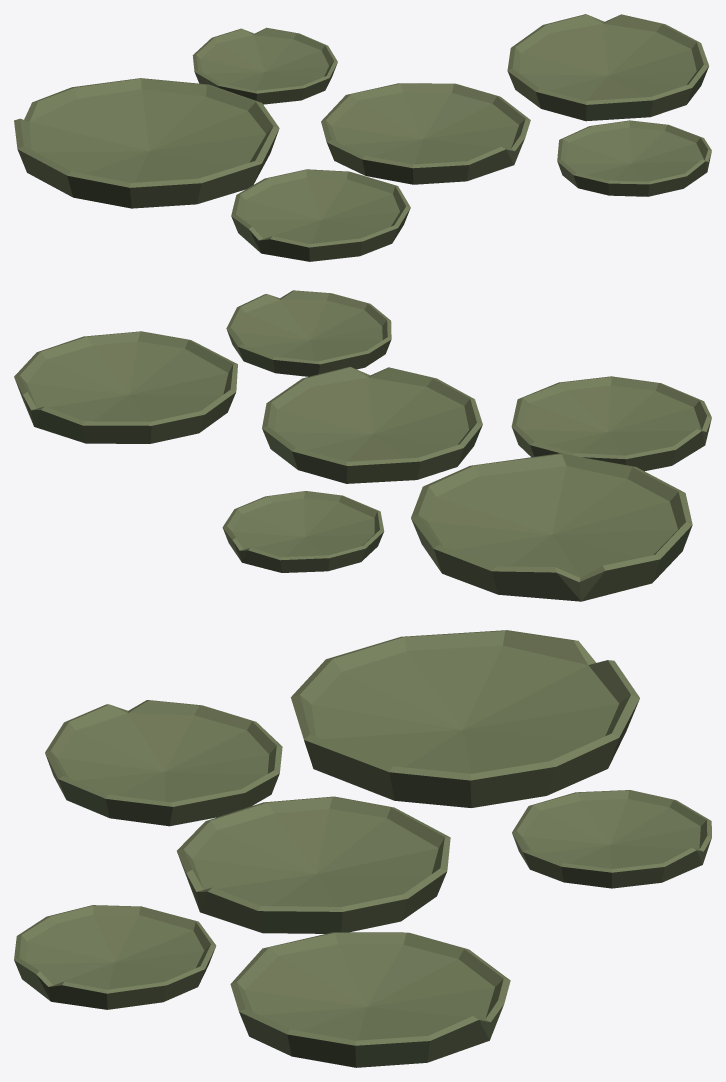
The model's file is synty-plant-lillypad-large-01.gltf.
3 renders of one model, top to bottom at view 1: azimuth 30°, elevation 25°; view 2: azimuth 150°, elevation 25°; view 3: azimuth 270°, elevation 25°, orthographic. The views are drawn at different scales.
Visible parts, largest first — view 1: SM_Plant_Lillypad_Large_01; view 2: SM_Plant_Lillypad_Large_01; view 3: SM_Plant_Lillypad_Large_01.
Boxes of the visible parts, box(x1,y1,x2,y2) form: SM_Plant_Lillypad_Large_01: box(14, 14, 711, 261); SM_Plant_Lillypad_Large_01: box(14, 290, 711, 601); SM_Plant_Lillypad_Large_01: box(14, 630, 711, 1067).
Bounding box in the file's own units: 2.87 × 0.1361 × 2.08.
Materials: 1 (1 with a texture image).
